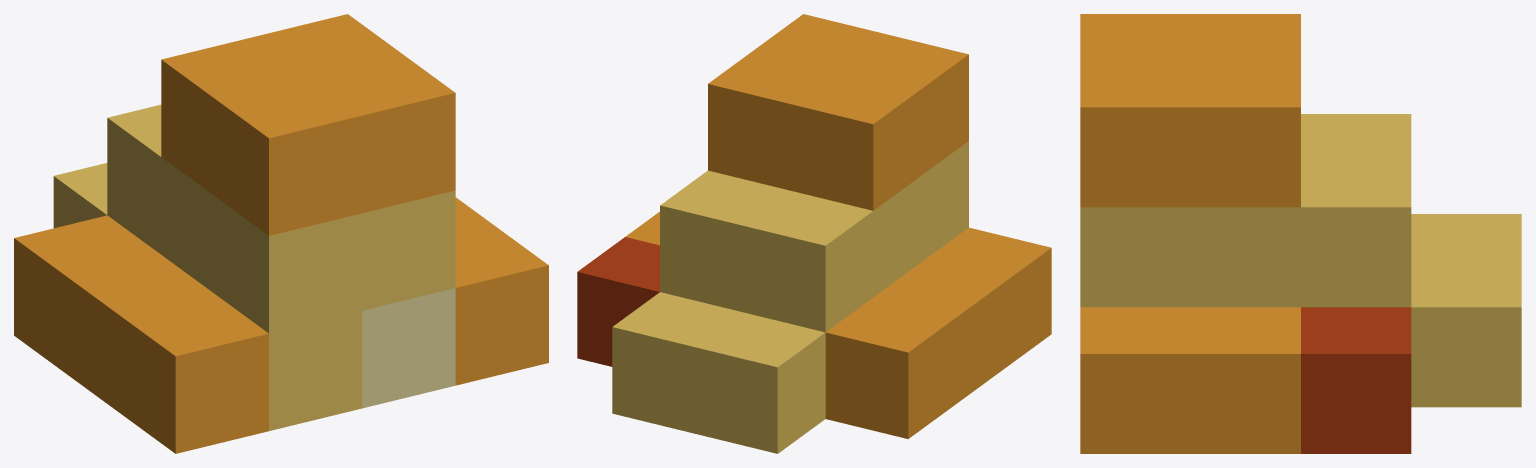
Rendered from flame_05.glb.
3 views of the same model, side by side, from view 1: azimuth 30°, elevation 25°; view 2: azimuth 150°, elevation 25°; view 3: azimuth 270°, elevation 25° (orthographic). The views are drawn at different scales.
Visible parts, largest first — view 1: flame_05; view 2: flame_05; view 3: flame_05.
Boxes of the visible parts, <box> form: flame_05: <box>14,14,548,453</box>; flame_05: <box>577,14,1051,453</box>; flame_05: <box>1080,14,1521,453</box>.
Bounding box in the file's own units: 0.5 × 0.375 × 0.5.
